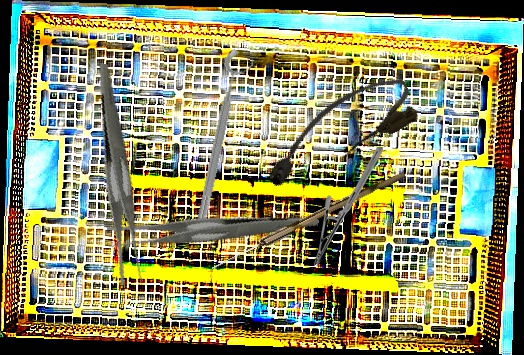Cannula: (252, 66, 424, 197)
Dressing Forceps: (58, 62, 183, 289), (102, 170, 320, 295)
Fixation Ring: (188, 47, 258, 237)
Needle Holder: (313, 147, 383, 266)
Surgical Spoon: (210, 167, 406, 274)
